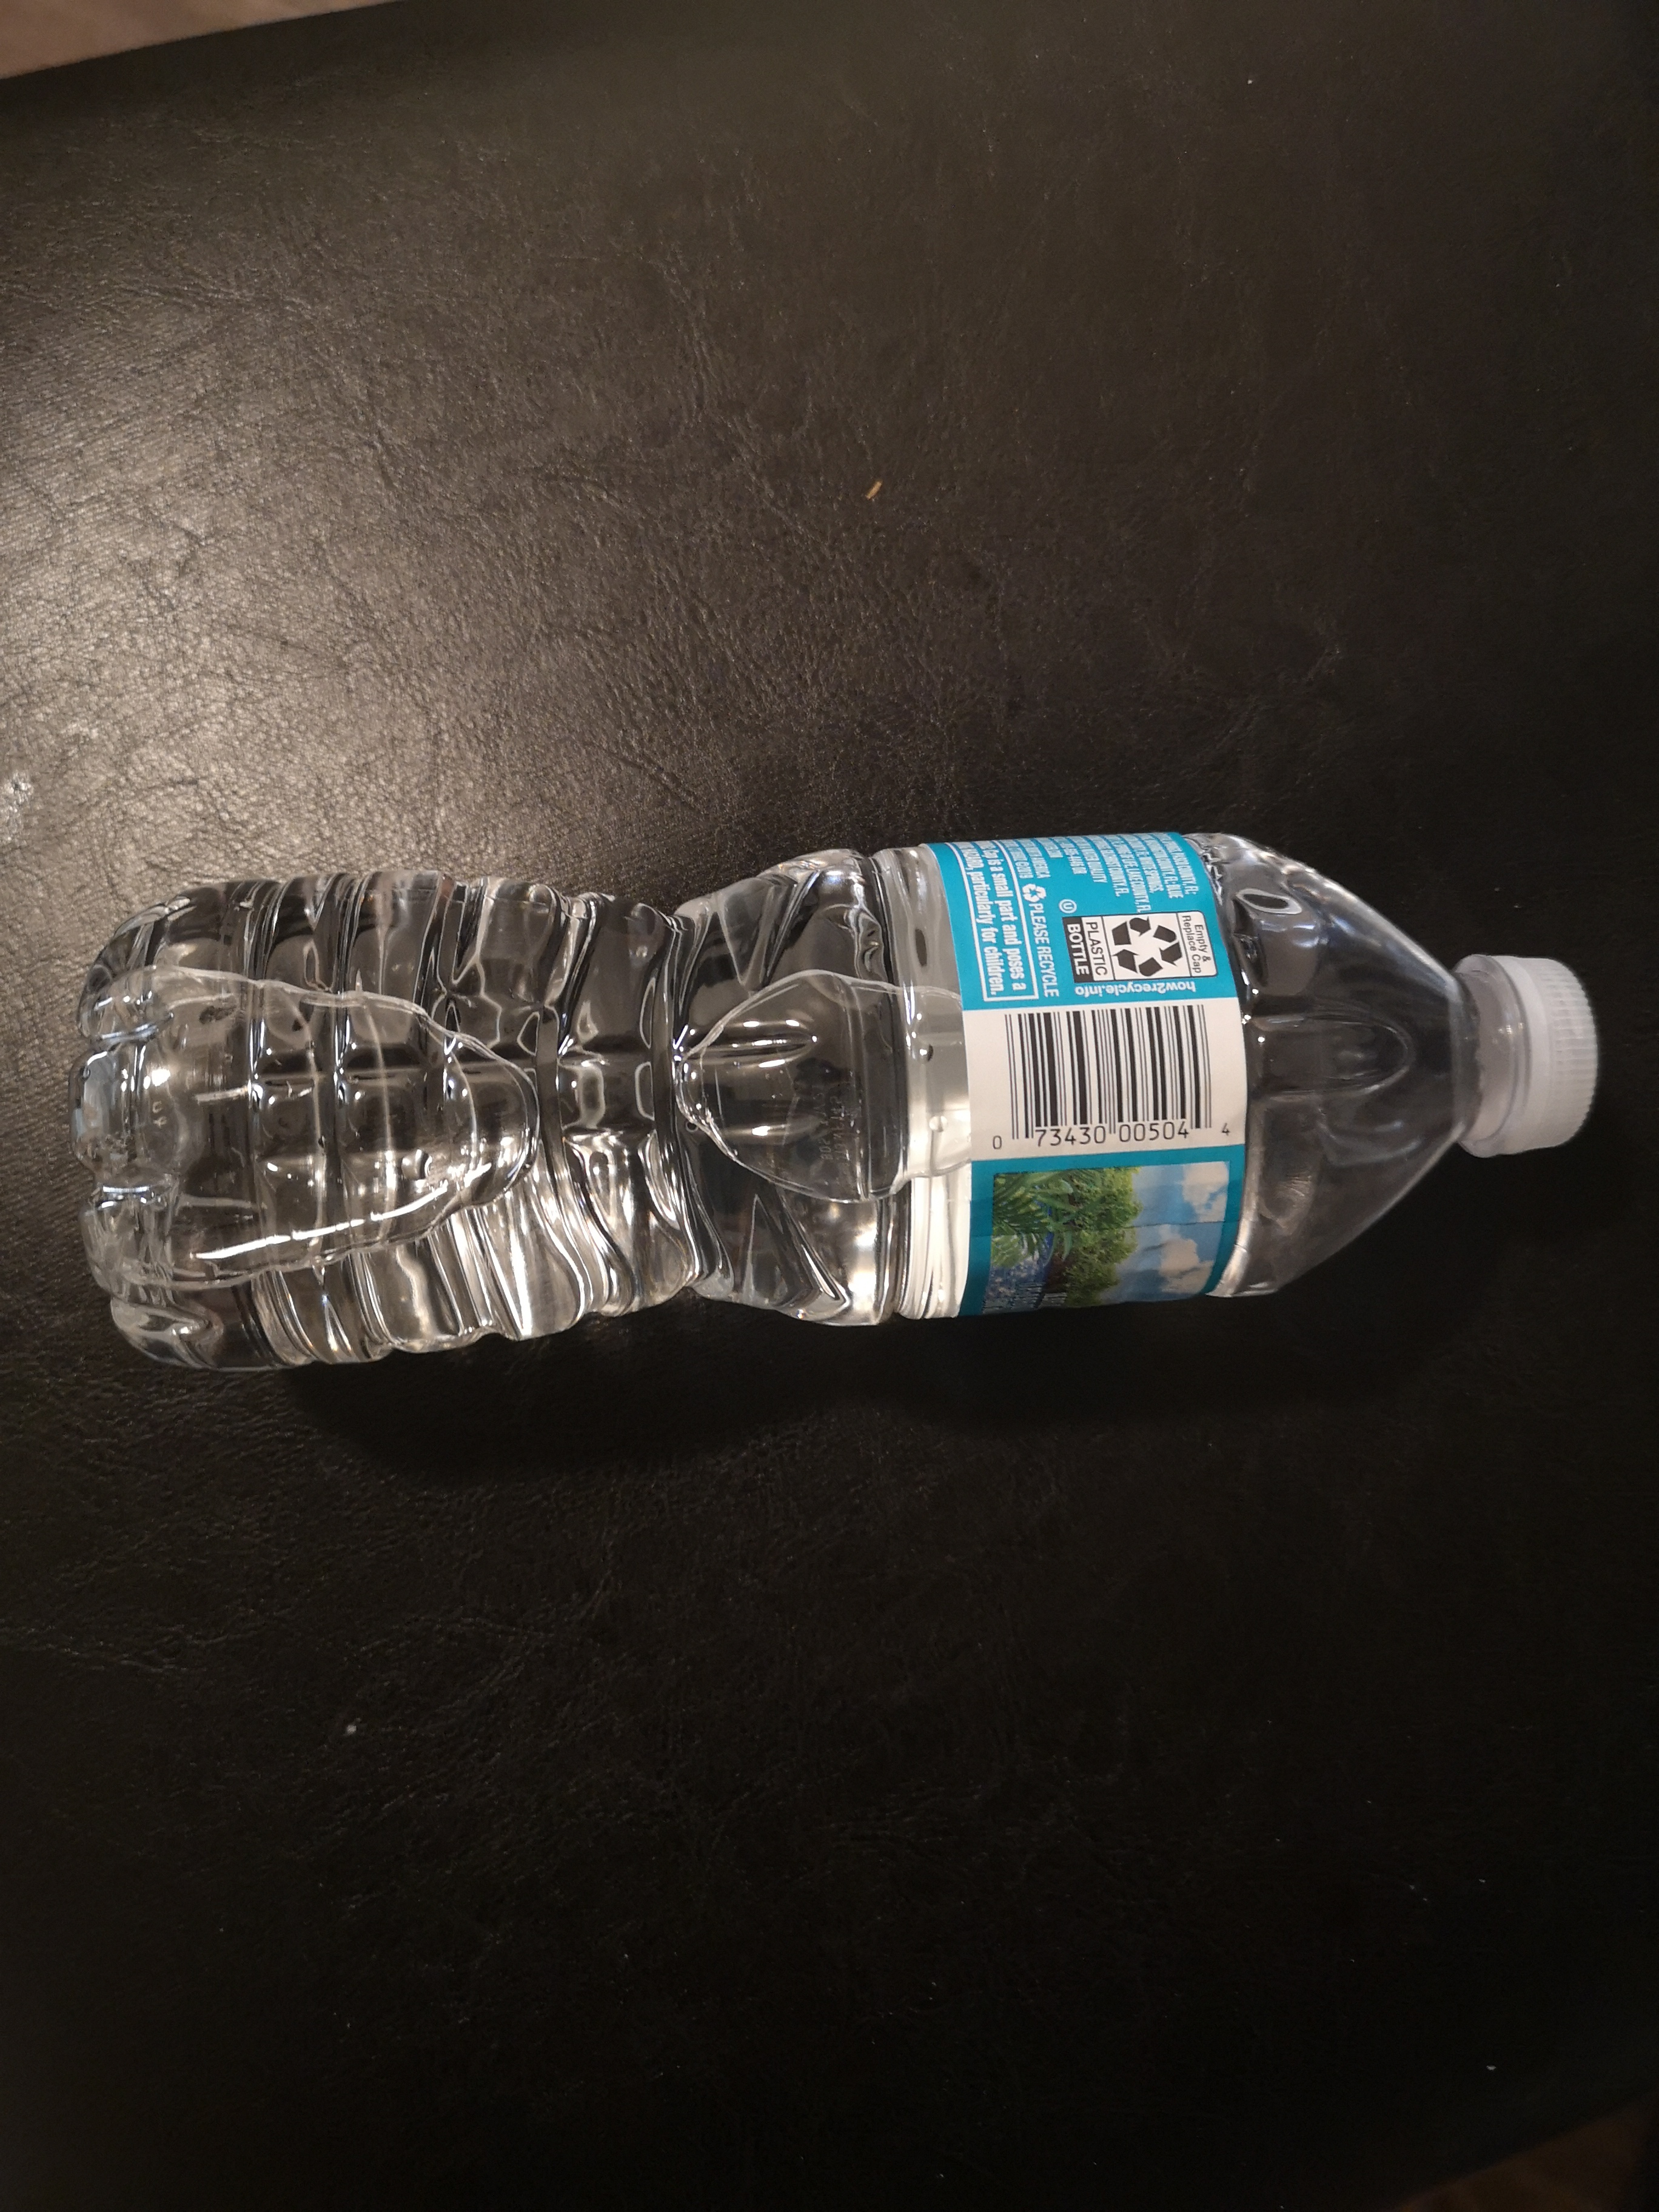其他: (59, 780, 1621, 1426)
